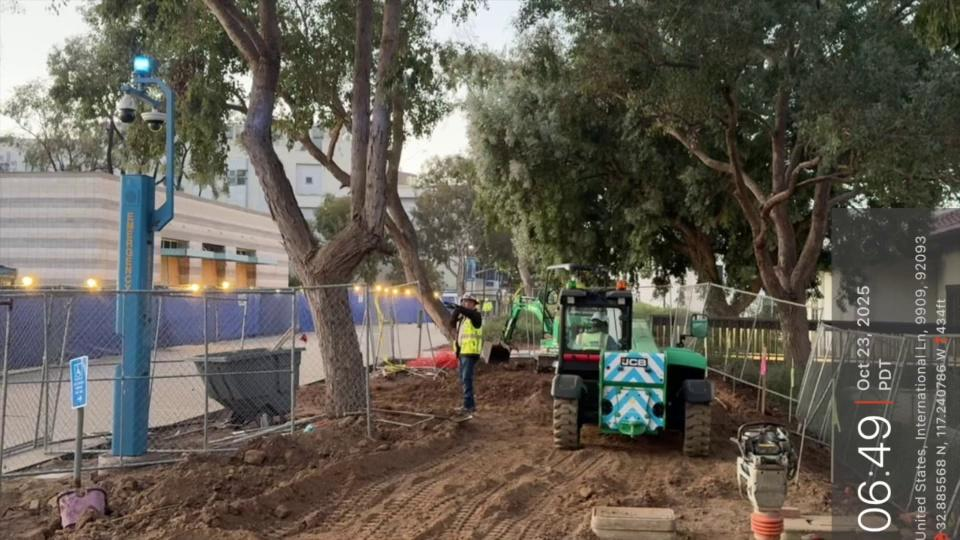Exacavator: (545, 265, 714, 457)
